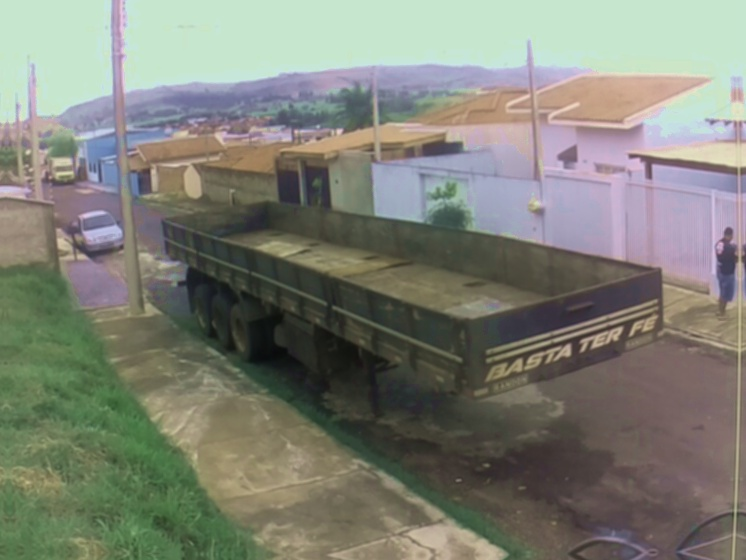person: (713, 225, 746, 322)
